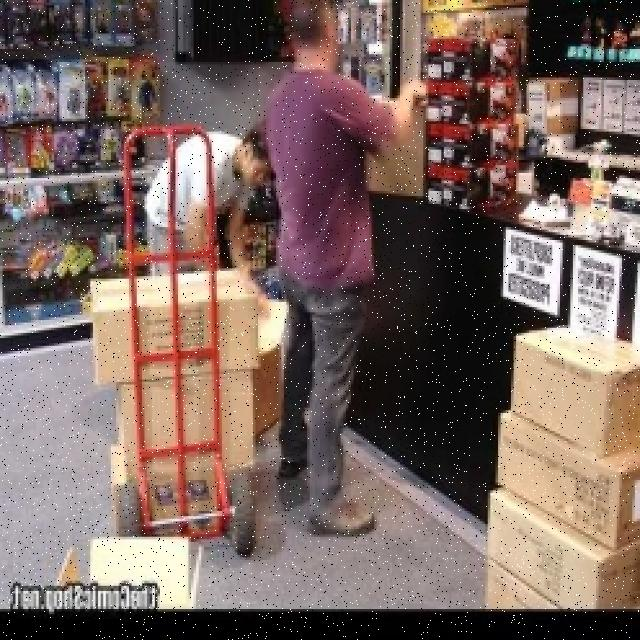box: (81, 250, 253, 372), (20, 534, 206, 640), (472, 418, 640, 529), (498, 307, 640, 434), (100, 355, 258, 461), (462, 514, 640, 601), (90, 448, 266, 527)
